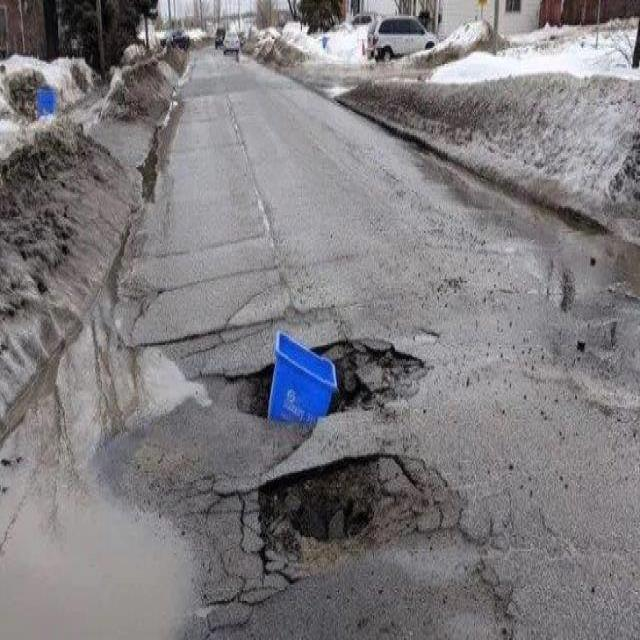jalan retak: (159, 443, 298, 640), (417, 458, 538, 564), (224, 272, 338, 338), (131, 319, 255, 372), (461, 544, 522, 640), (108, 269, 197, 319)
lubang: (0, 454, 212, 640), (213, 455, 432, 562), (210, 334, 427, 436), (70, 325, 215, 442), (528, 199, 640, 327)
